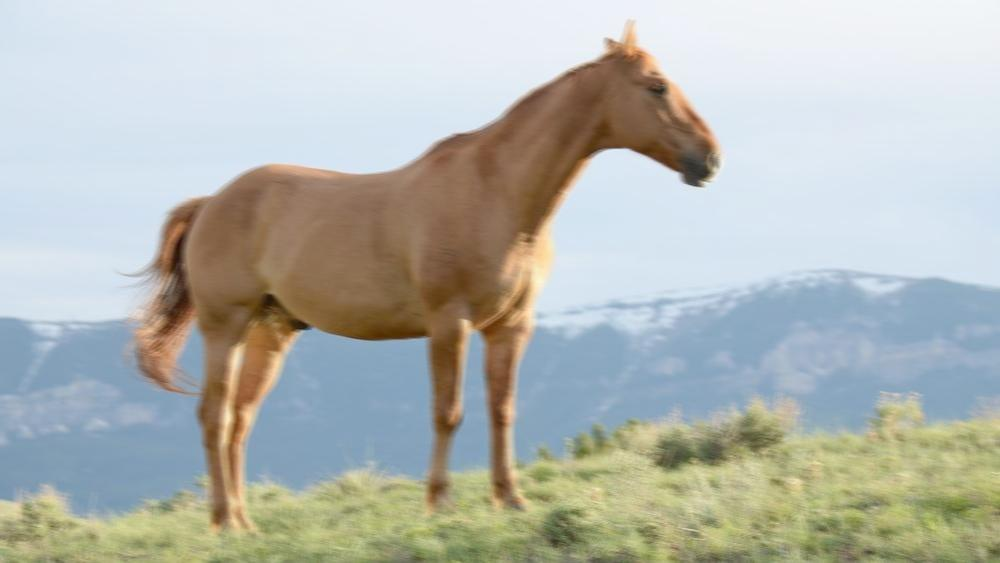horse: (115, 11, 732, 544)
